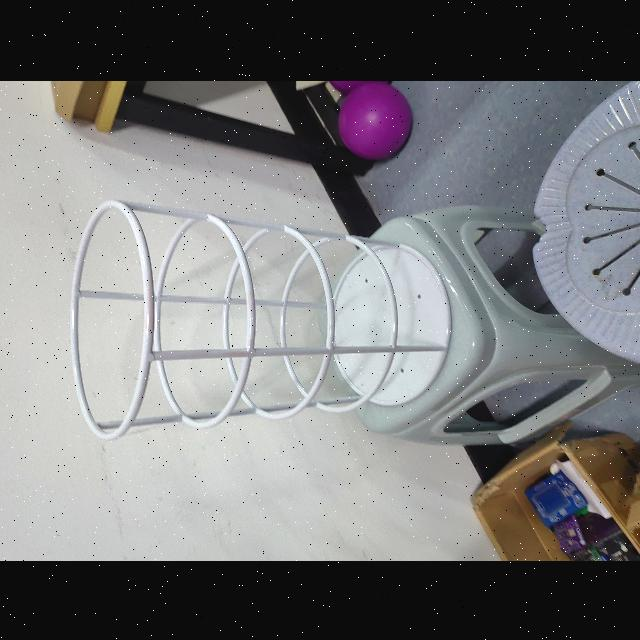S: (68, 196, 456, 442)
